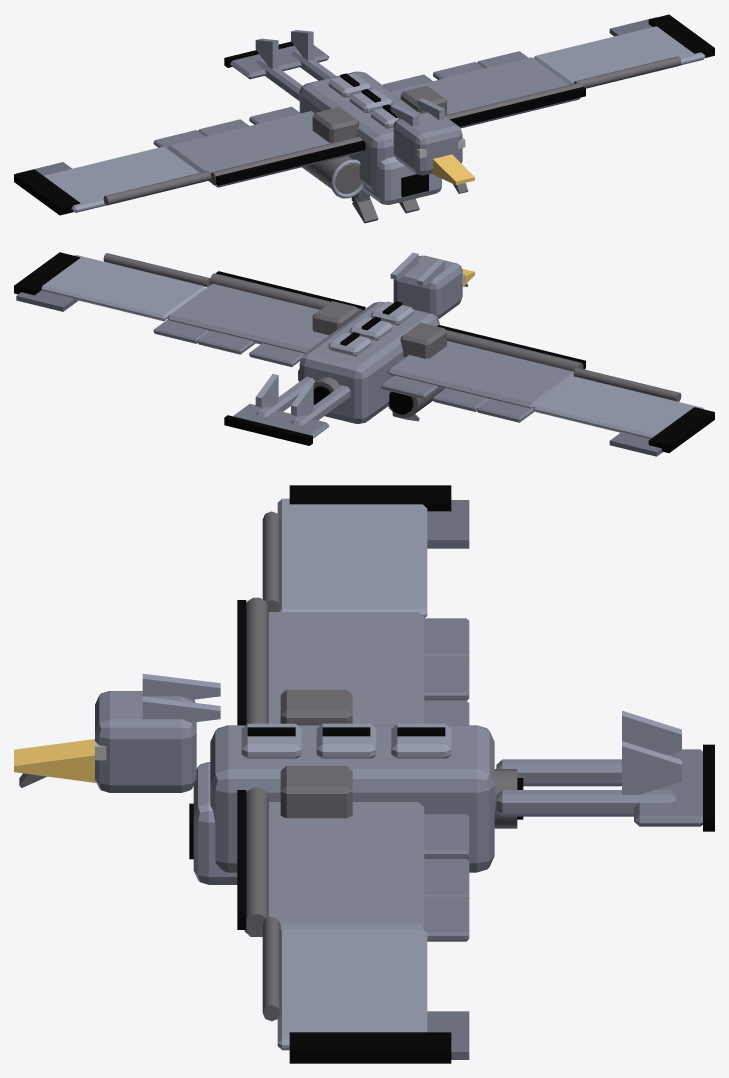
File: harrier.glb
The picture shows the model from 3 angles, top to bottom: view 1: azimuth 30°, elevation 25°; view 2: azimuth 150°, elevation 25°; view 3: azimuth 270°, elevation 25°; orthographic projection. The views are drawn at different scales.
Parts seen in each view (by area): view 1: harrier.005, harrier*1.012, harrier*1.013, harrier.004, harrier, harrier.001, harrier*1.3, glow*0.011, glow*0.009, glow*0.012, gunmetal.010, gunmetal.002 (+26 smaller); view 2: harrier.005, harrier, harrier.004, harrier*1.012, harrier*1.013, harrier.001, gunmetal.009, glow*0.012, gunmetal.006, gunmetal.010, harrier*0.8, glow*0.010 (+25 smaller); view 3: harrier.004, harrier, harrier*1.013, harrier*1.012, harrier.005, harrier.001, glow*0.010, harrier.002, gunmetal.007, glow*0.012, gunmetal.006, harrier.003 (+26 smaller).
Part boxes in pixels (x1,y1,x2,y2): harrier.005: (167,111,360,187); harrier*1.012: (533,26,705,84); harrier*1.013: (43,146,199,212); harrier.004: (391,57,580,128); harrier: (299,71,420,192); harrier.001: (393,112,462,175); harrier*1.3: (362,156,441,204); glow*0.011: (216,140,365,185); glow*0.009: (450,87,585,126); glow*0.012: (14,169,80,215); gunmetal.010: (312,107,358,142); gunmetal.002: (302,156,361,193); harrier.005: (387,341,574,408); harrier: (299,301,439,423); harrier.004: (167,283,328,353); harrier*1.012: (41,255,205,321); harrier*1.013: (533,377,704,438); harrier.001: (393,255,462,318); gunmetal.009: (446,329,583,371); glow*0.012: (648,407,714,452); gunmetal.006: (209,273,362,313); gunmetal.010: (400,322,446,358); harrier*0.8: (233,404,329,438); glow*0.010: (14,252,80,295); harrier.004: (244,802,424,936); harrier: (210,725,494,872); harrier*1.013: (277,498,427,617); harrier*1.012: (277,929,427,1050); harrier.005: (268,612,424,725); harrier.001: (95,691,196,792); glow*0.010: (289,1032,451,1063); harrier.002: (496,790,675,816); gunmetal.007: (280,765,352,818); glow*0.012: (289,485,451,511); gunmetal.006: (245,787,268,934); harrier.003: (496,759,621,786).
Bounding box in the file's own units: 4.46 × 0.8531 × 2.34.
